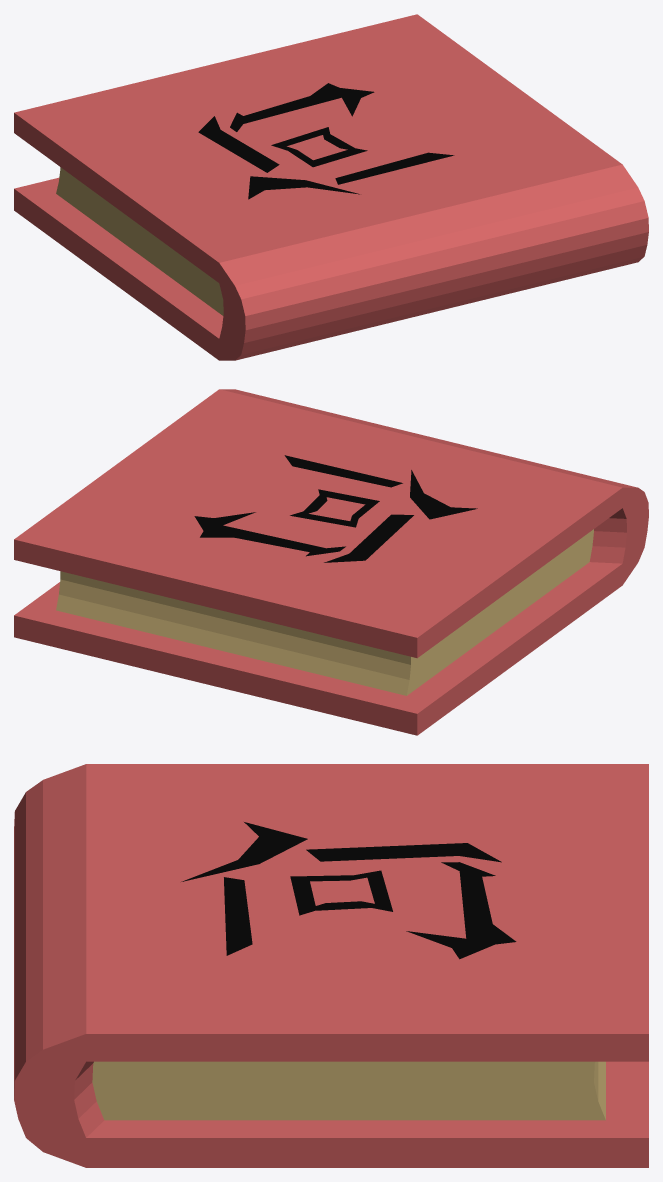
File: SpellTomeClosed.fbx
3 views of the same model, one above another, from view 1: azimuth 30°, elevation 25°; view 2: azimuth 150°, elevation 25°; view 3: azimuth 270°, elevation 25° (orthographic). The views are drawn at different scales.
Parts seen in each view (by area): view 1: Cube, Cube.001, Cube.002; view 2: Cube, Cube.002, Cube.001; view 3: Cube, Cube.002, Cube.001.
Part boxes in pixels (x1,y1,x2,y2): Cube: (14,14,648,360); Cube.001: (198,83,454,199); Cube.002: (56,167,223,315); Cube: (14,389,648,735); Cube.002: (56,529,593,695); Cube.001: (194,455,477,562); Cube: (14,764,648,1167); Cube.002: (92,1061,605,1120); Cube.001: (181,822,516,959).
Bounding box in the file's own units: 230 × 53.31 × 229.
